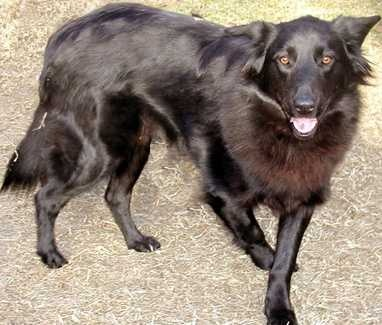dog: (27, 0, 373, 274)
